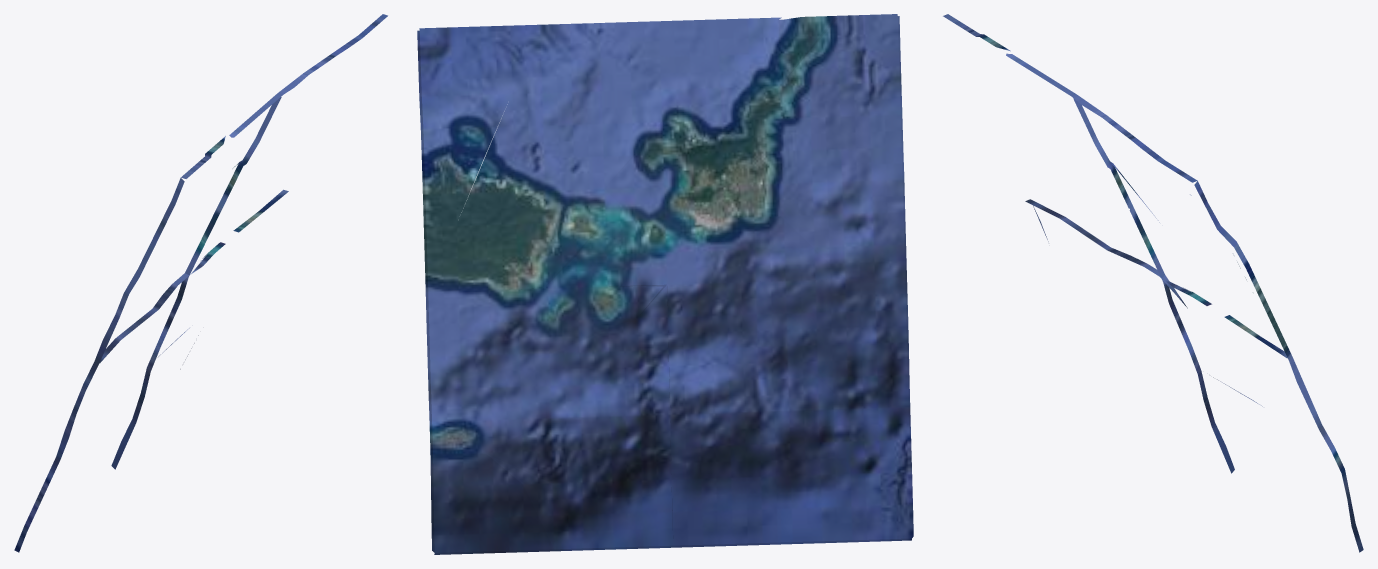
The picture shows the model from 3 angles, left to right: view 1: azimuth 30°, elevation 25°; view 2: azimuth 150°, elevation 25°; view 3: azimuth 270°, elevation 25°; orthographic projection. The views are drawn at different scales.
Size of the model in its own units: 77582 by 73174 by 65730.
1 material, 1 textured.
